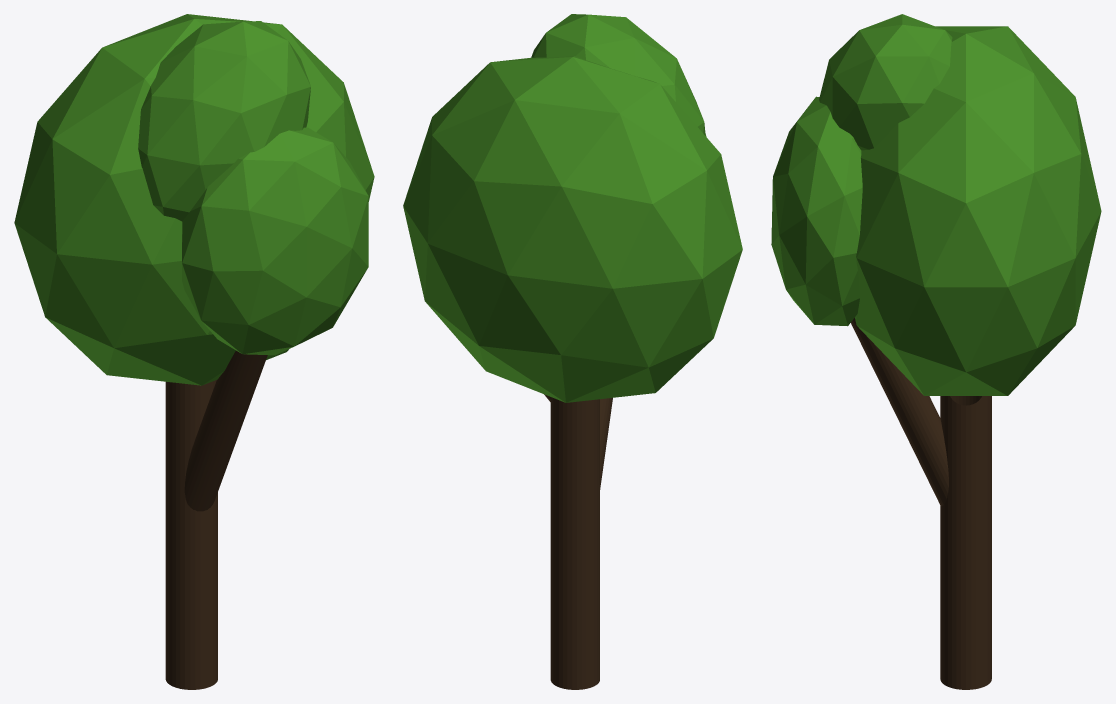
File: Tree3.fbx
3 views of the same model, side by side, from view 1: azimuth 30°, elevation 25°; view 2: azimuth 150°, elevation 25°; view 3: azimuth 270°, elevation 25° (orthographic). The views are drawn at different scales.
Parts seen in each view (by area): view 1: Icosphere.007, Icosphere.008, Icosphere.006, Circle.005, Cylinder.014; view 2: Icosphere.007, Circle.005, Icosphere.006, Cylinder.014; view 3: Icosphere.007, Icosphere.008, Circle.005, Icosphere.006, Cylinder.014.
Part boxes in pixels (x1,y1,x2,y2): Icosphere.007: (14, 14, 374, 385); Icosphere.008: (182, 127, 368, 355); Icosphere.006: (138, 21, 310, 221); Circle.005: (165, 380, 217, 689); Cylinder.014: (184, 350, 267, 511); Icosphere.007: (403, 56, 742, 402); Circle.005: (550, 397, 599, 689); Icosphere.006: (531, 14, 705, 135); Cylinder.014: (600, 398, 612, 489); Icosphere.007: (855, 26, 1101, 395); Icosphere.008: (771, 96, 862, 326); Circle.005: (940, 396, 991, 689); Icosphere.006: (819, 14, 952, 150); Cylinder.014: (851, 318, 948, 506).
Size of the model in its own units: 670 by 1365 by 615.
